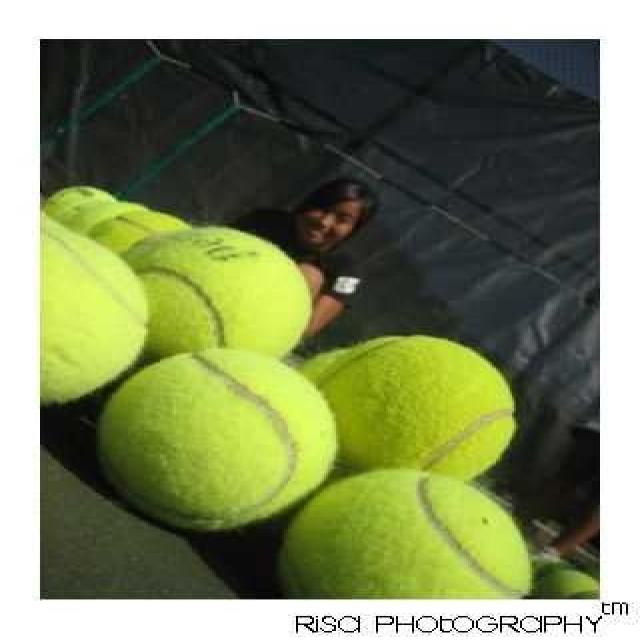Tennis_Ball: (102, 350, 334, 530), (284, 469, 530, 601), (132, 224, 320, 359), (338, 332, 510, 470), (30, 224, 142, 406), (90, 212, 194, 257), (44, 185, 122, 221)
